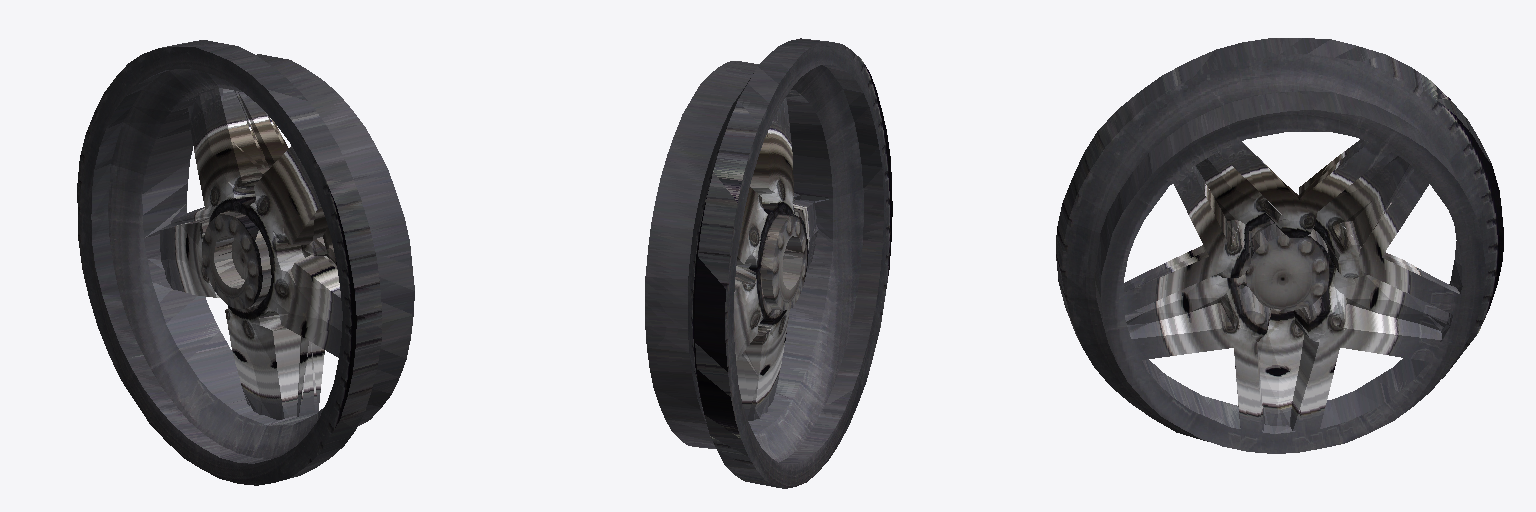
The picture shows the model from 3 angles: view 1: azimuth 30°, elevation 25°; view 2: azimuth 150°, elevation 25°; view 3: azimuth 270°, elevation 25°; orthographic projection.
Visible parts, largest first — view 1: opala; view 2: opala; view 3: opala.
Part boxes in pixels (x1,y1,x2,y2): opala: (77,40,414,485); opala: (645,38,892,488); opala: (1056,38,1503,453).
Size of the model in its own units: 3.57 by 9.89 by 9.83.
1 materials, 1 textured.